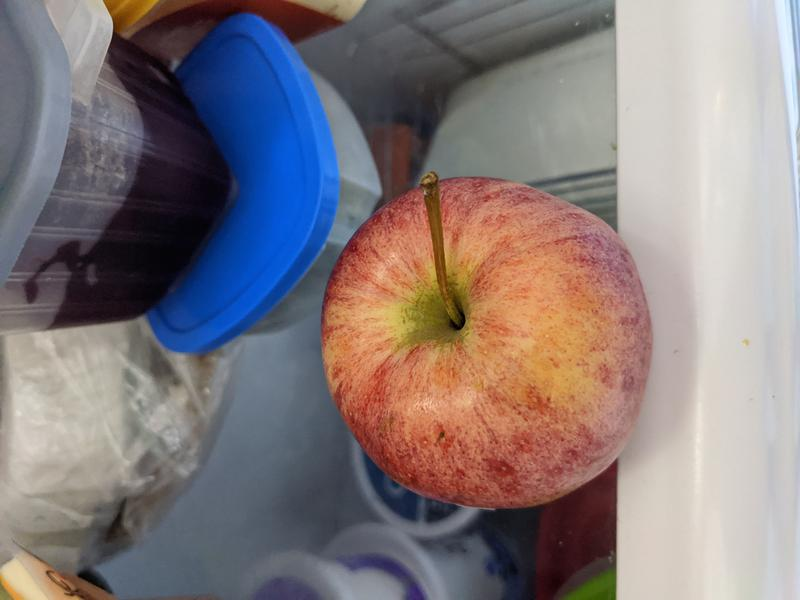red apple: (319, 175, 654, 510)
